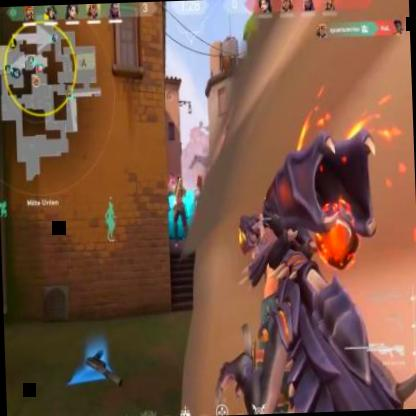enemy: (189, 174, 210, 252), (172, 178, 188, 242), (170, 172, 177, 197)
enemy_head: (196, 175, 202, 189), (176, 176, 182, 184), (170, 173, 173, 179)
